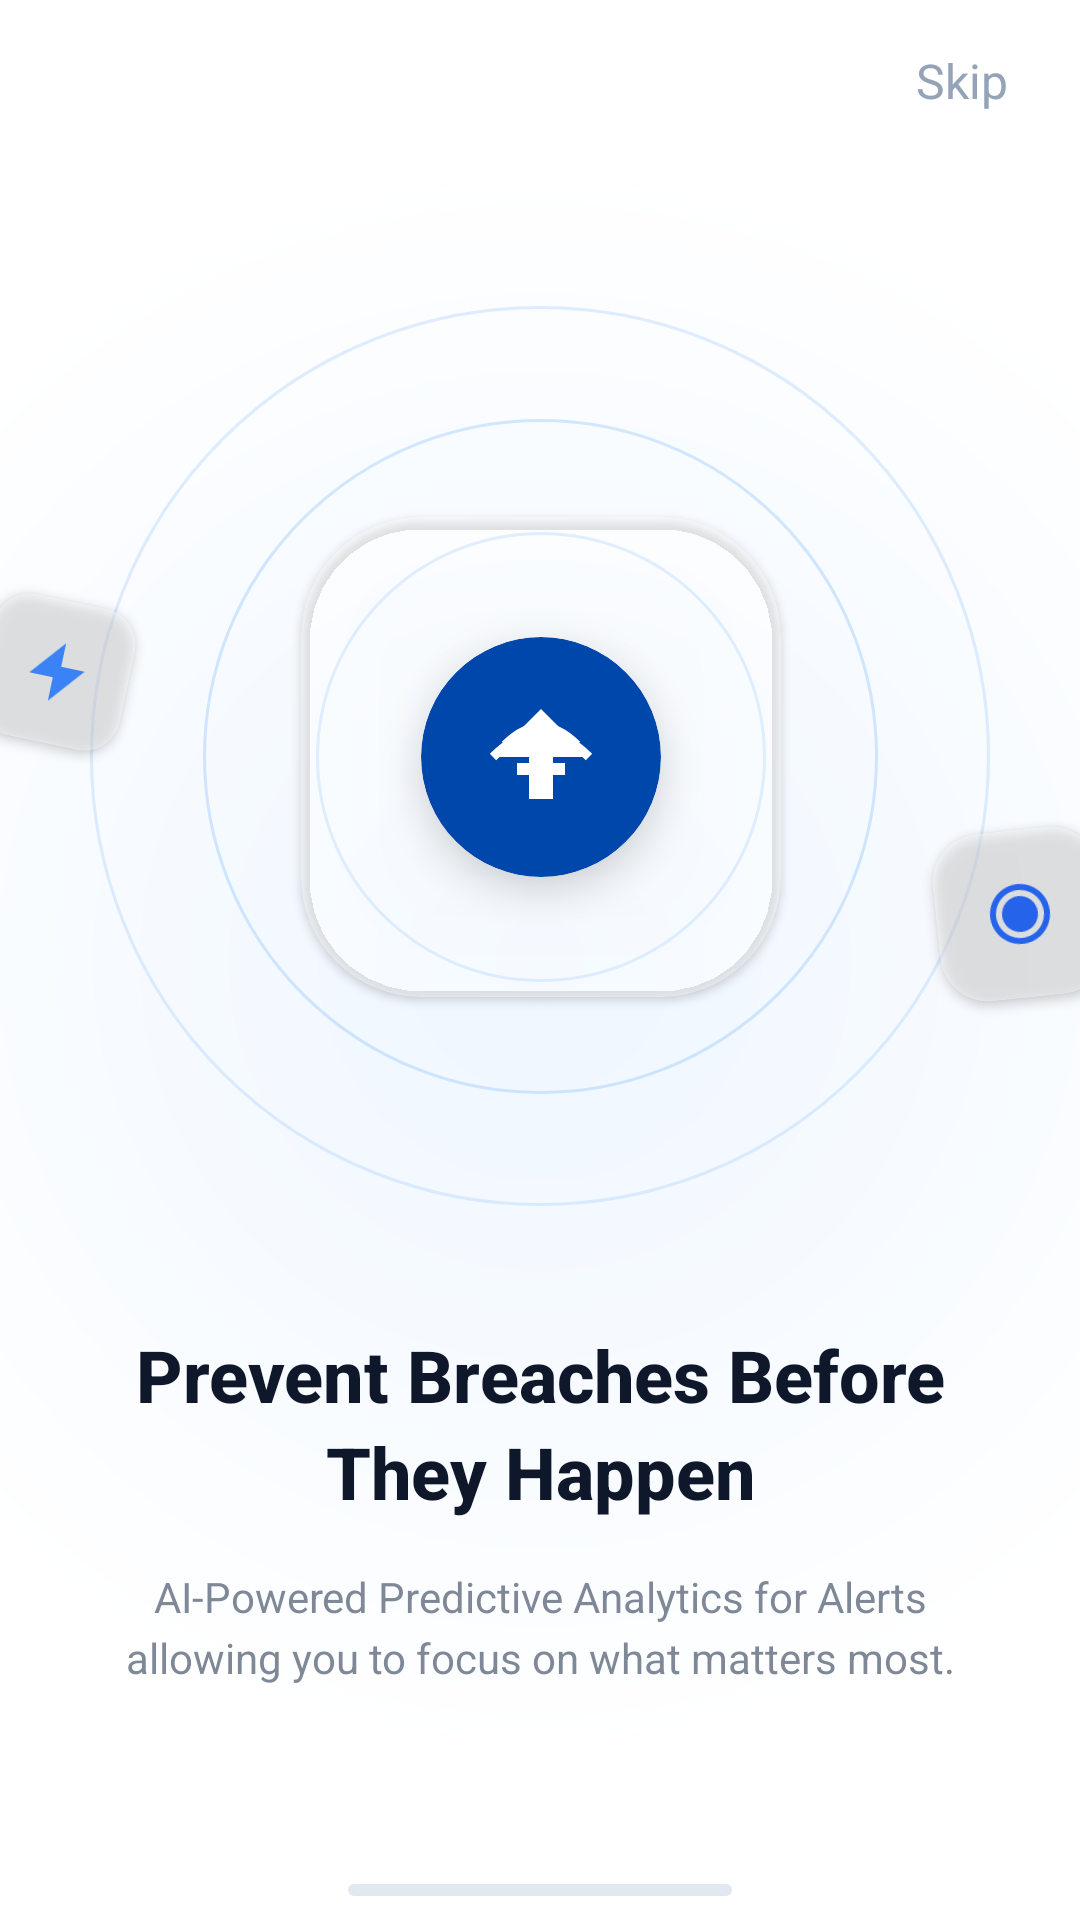

Named icons in this screenshot (1080×1920) and their bounding boxes, (x1, y1, x2, y2):
Central Feature Icon: (490, 709, 592, 799)
